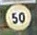limite 50: (4, 3, 31, 30)
